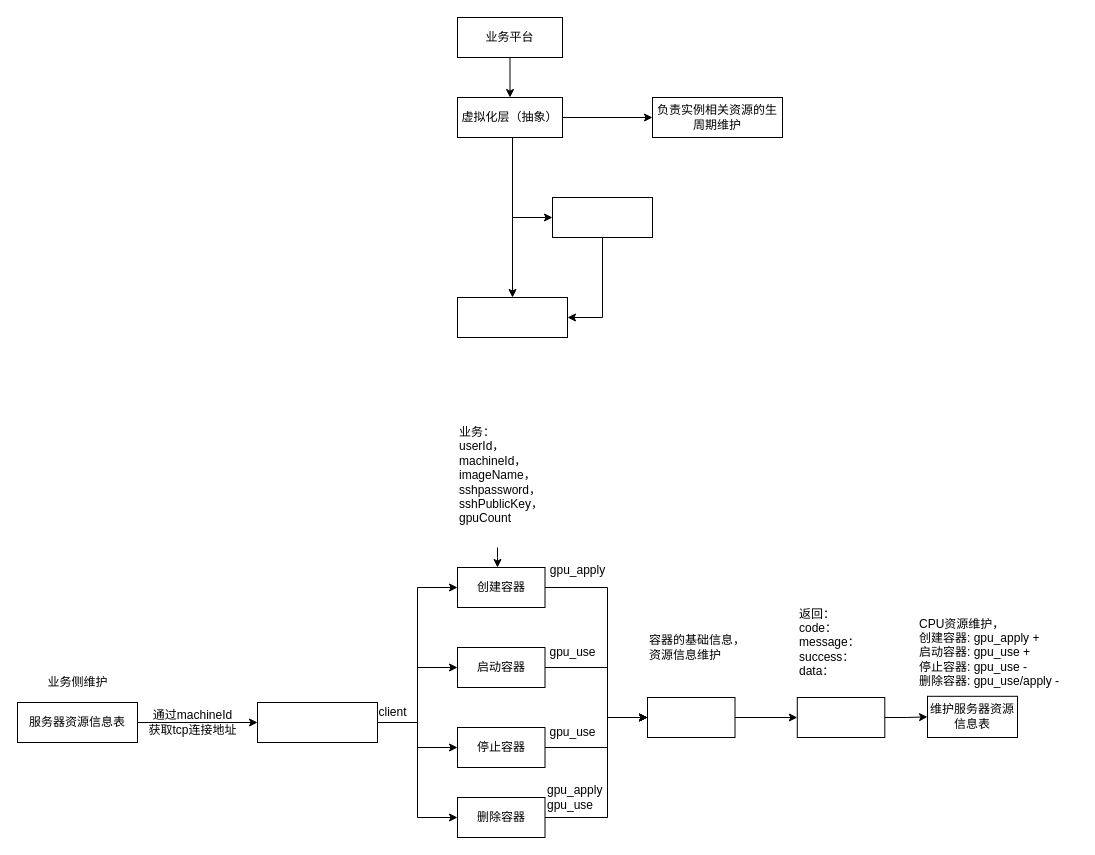
This 1095x855 diagram has some shape labels left out. The shapes that lost their labels are listed below. From the top down, each one's centre as x and y in pixels, then its label:
the point at 602,217: K8S集群管理...
the point at 512,317: 物理服务器资源...
the point at 317,722: 服务器节点docker 客户端获取
the point at 690,717: 维护容器信息表
the point at 840,717: 返回数据到 业务
